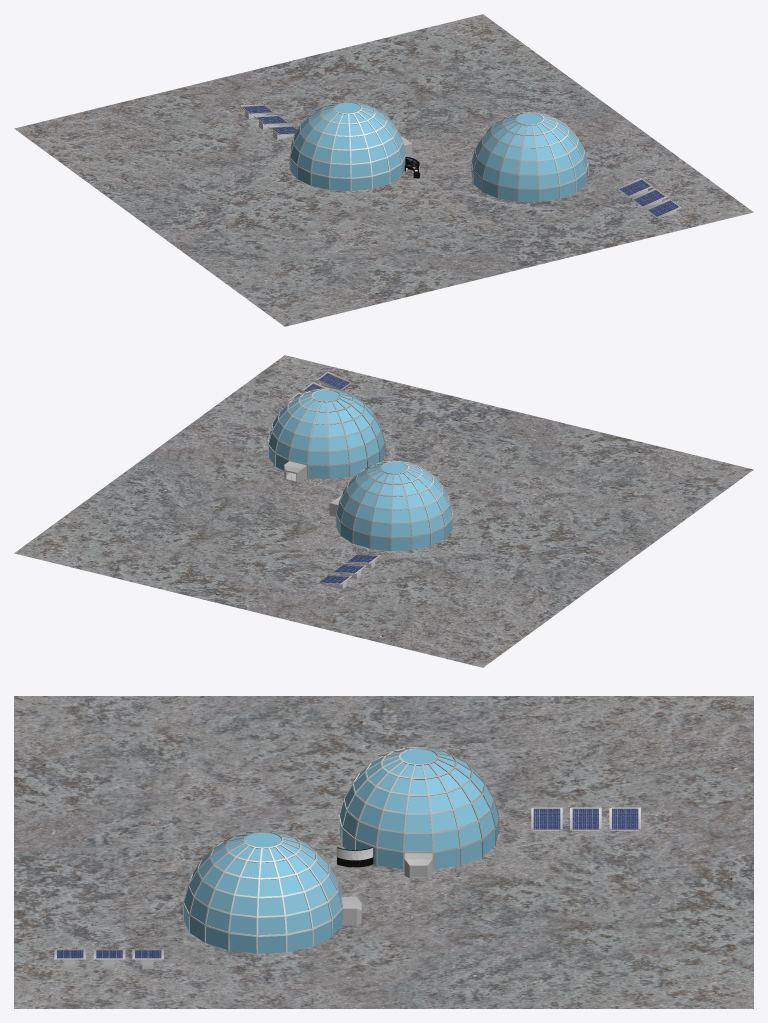
The model's file is maestro.fbx.
The picture shows the model from 3 angles, top to bottom: view 1: azimuth 30°, elevation 25°; view 2: azimuth 150°, elevation 25°; view 3: azimuth 270°, elevation 25°; orthographic projection. The views are drawn at different scales.
Visible parts, largest first — view 1: Plano, Sphere.003, Sphere.001; view 2: Plano, Sphere.003, Sphere.001; view 3: Plano, Sphere.001, Sphere.003, Cube.007, Cube.005, Cube.006, Cube.
Boxes of the visible parts, x1,y1,x2,y2 form: Plano: [14, 14, 753, 326]; Sphere.003: [289, 101, 413, 191]; Sphere.001: [471, 112, 588, 202]; Plano: [14, 355, 753, 667]; Sphere.003: [329, 460, 452, 551]; Sphere.001: [268, 388, 385, 481]; Plano: [14, 696, 753, 1008]; Sphere.001: [183, 830, 361, 953]; Sphere.003: [338, 747, 499, 877]; Cube.007: [570, 807, 601, 831]; Cube.005: [609, 807, 640, 831]; Cube.006: [531, 807, 562, 831]; Cube: [336, 847, 373, 867].
Size of the model in its own units: 20546 by 2469 by 20546.
97 materials, 86 textured.
